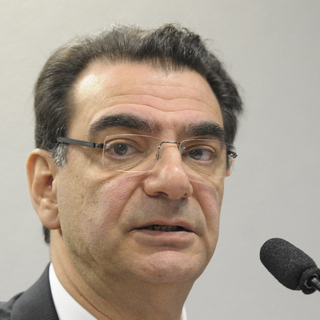eye: (91, 135, 141, 160), (178, 140, 221, 164)
